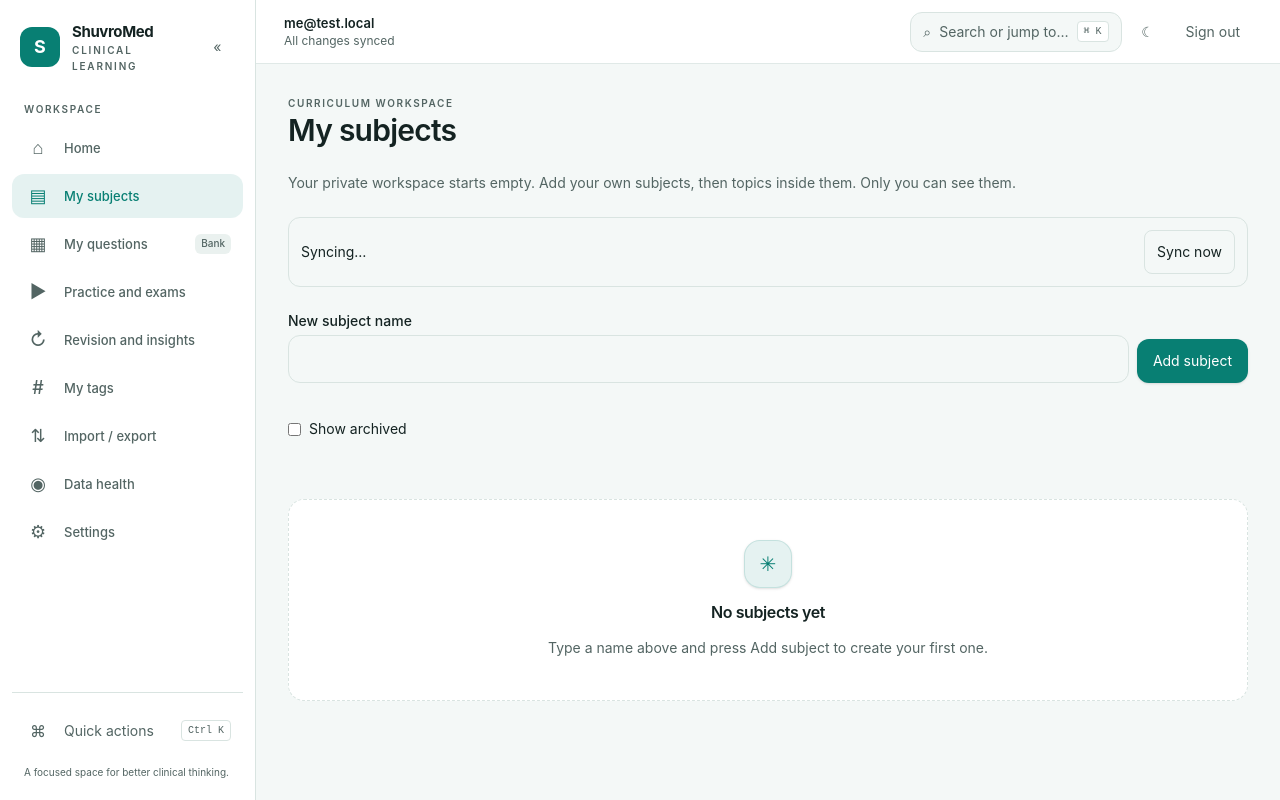
Test case: My subjects with the on-device store › keeps the data after the screen is reopened (it is stored on the device)
The width and height of the screenshot is (1280, 800).
Later steps or results of the test are not shown.
Type "Pathology" into the field labelled "New subject name". click: (708, 359)
box: [288,335,1129,383]
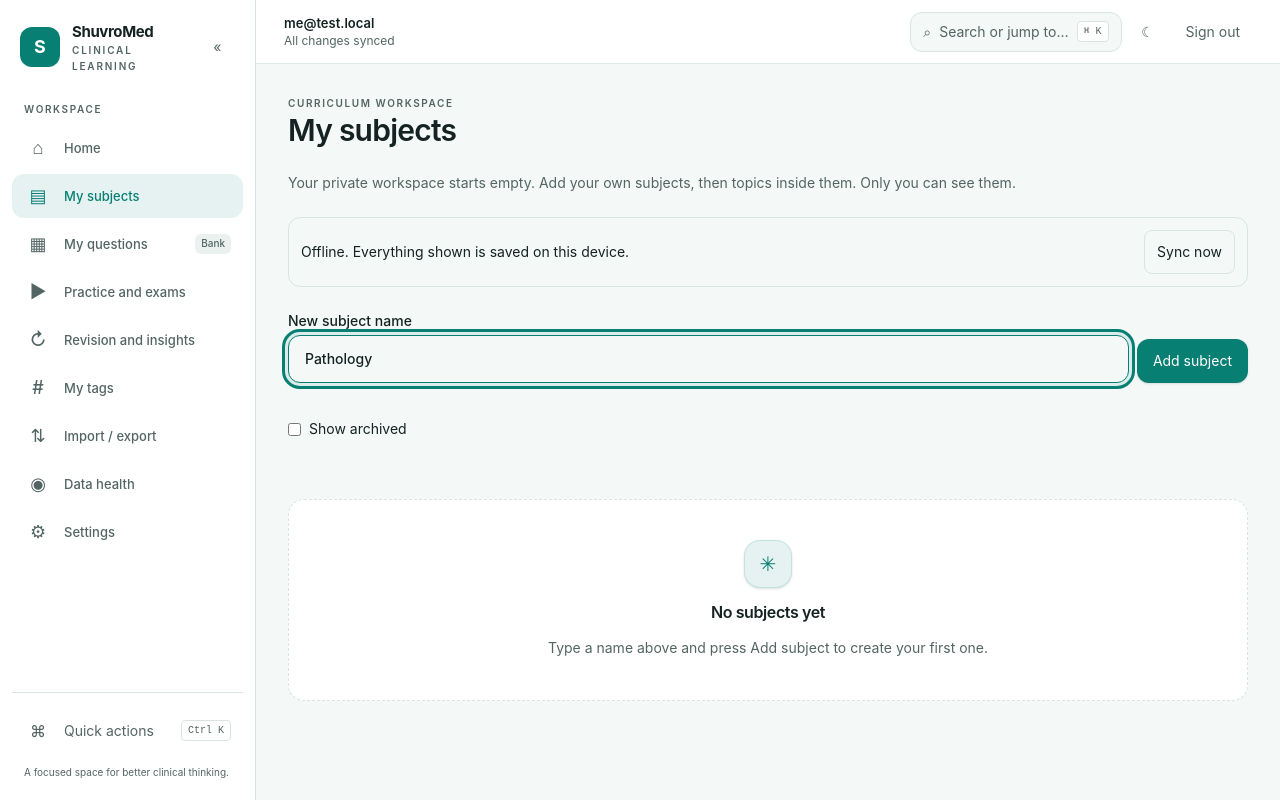
Click the button "Add subject". click: (1192, 361)
box: [1137,339,1248,383]
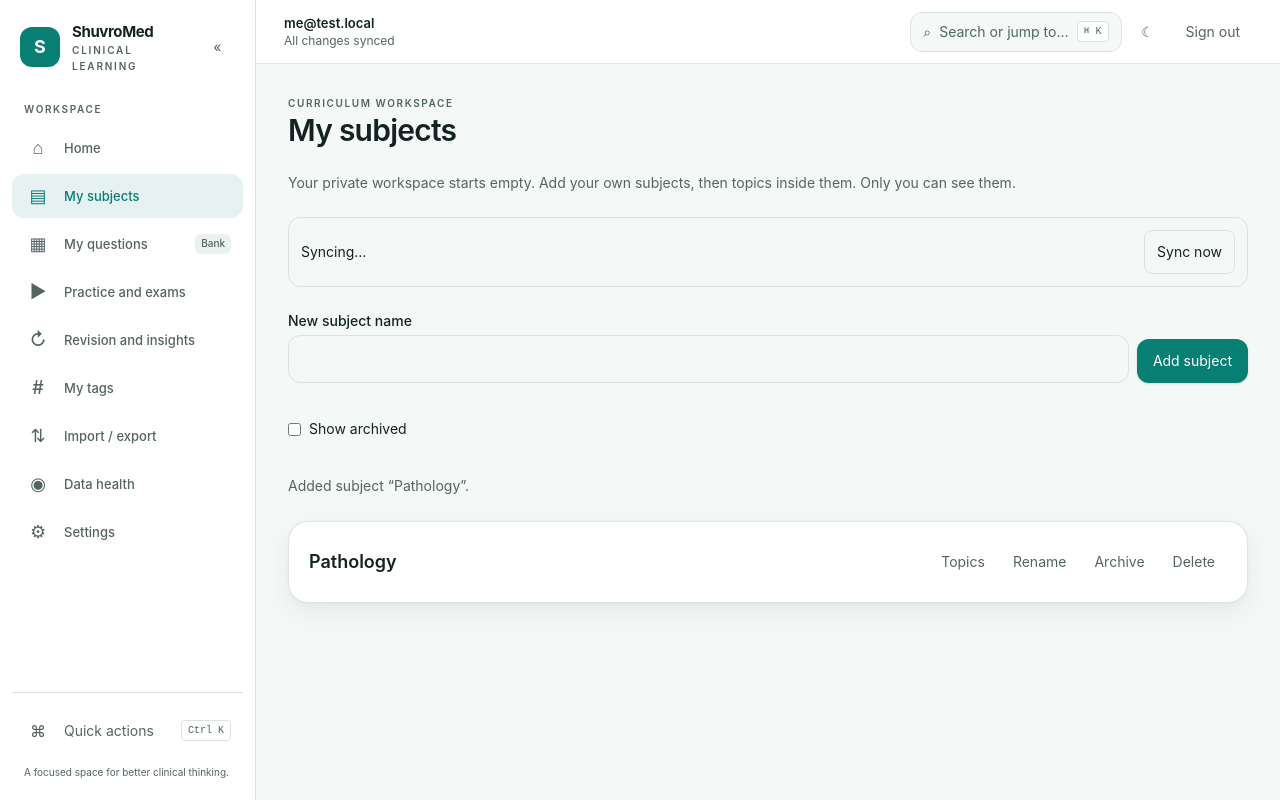
Expected: the heading "Pathology" is shown, [309,548,397,576]
